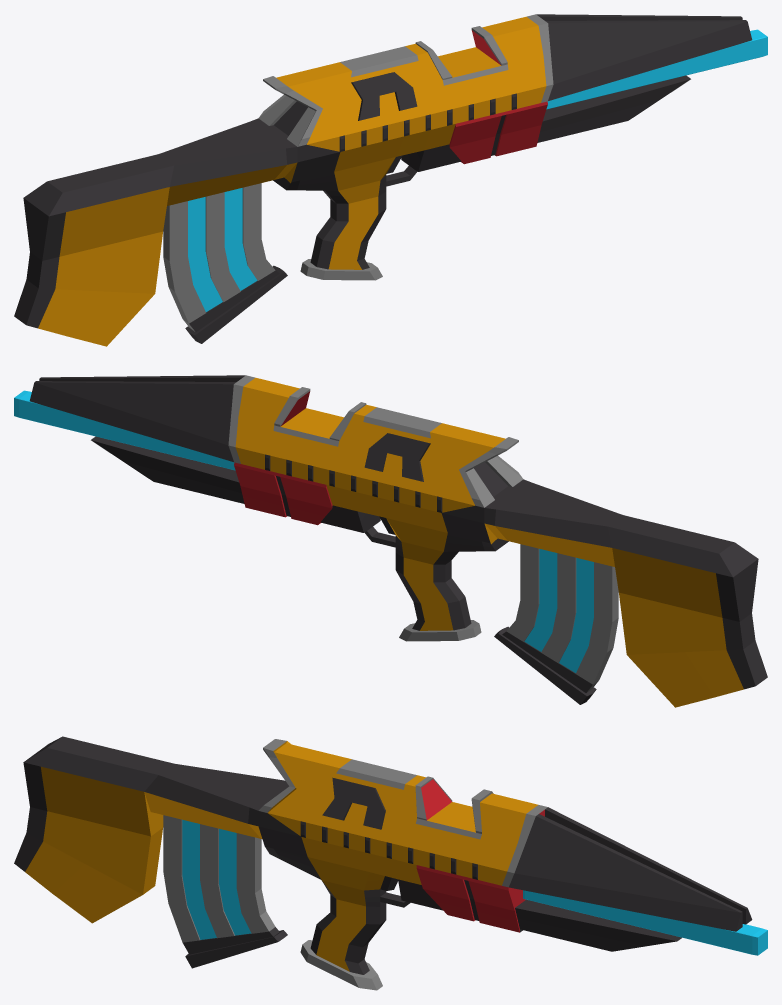
Rendered from Lanzarrayos.fbx.
3 renders of one model, top to bottom at view 1: azimuth 30°, elevation 25°; view 2: azimuth 150°, elevation 25°; view 3: azimuth 330°, elevation 25°, orthographic.
Visible parts, largest first — view 1: Cube.085; view 2: Cube.085; view 3: Cube.085.
Boxes of the visible parts, left/top/right/bottom form: Cube.085: left=14, top=14, right=767, bottom=346; Cube.085: left=14, top=375, right=767, bottom=707; Cube.085: left=14, top=736, right=767, bottom=990.
Bounding box in the file's own units: 1.05 × 0.3241 × 0.0974.
